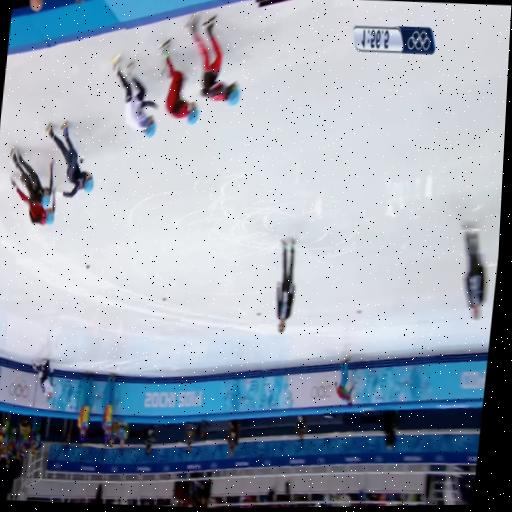Skater: (187, 13, 240, 105), (112, 55, 157, 137), (46, 121, 94, 197), (160, 38, 199, 123), (11, 148, 54, 208), (12, 178, 56, 224), (33, 359, 54, 401), (335, 357, 353, 405)
